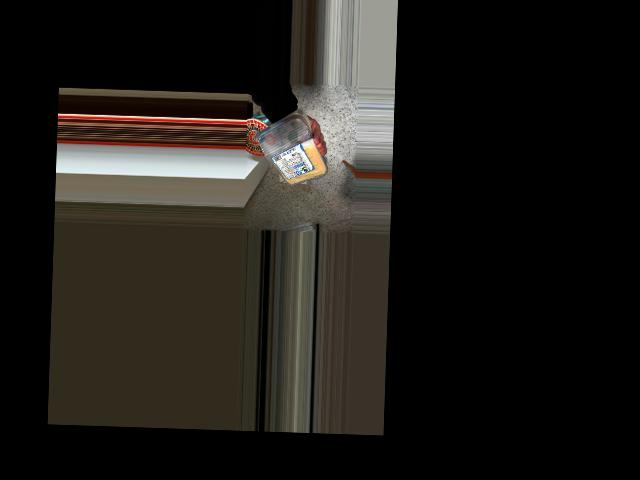cheese: (255, 117, 319, 188)
